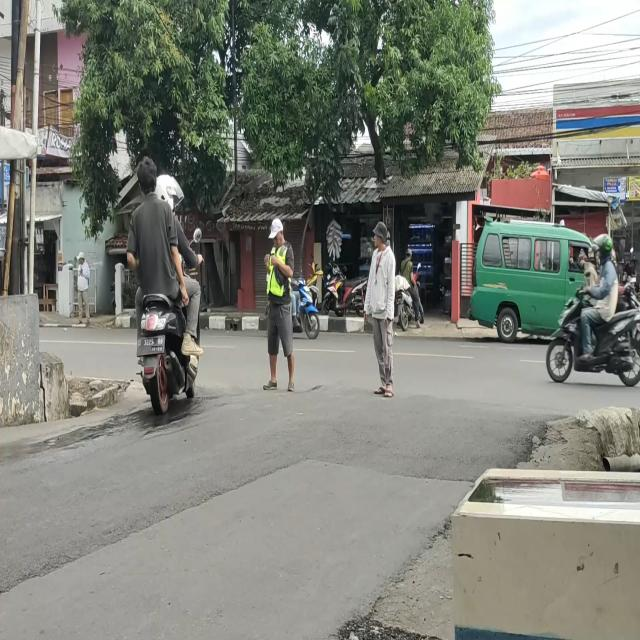helmet: (159, 175, 185, 217), (594, 230, 614, 268)
no-helmet: (136, 158, 156, 193)
